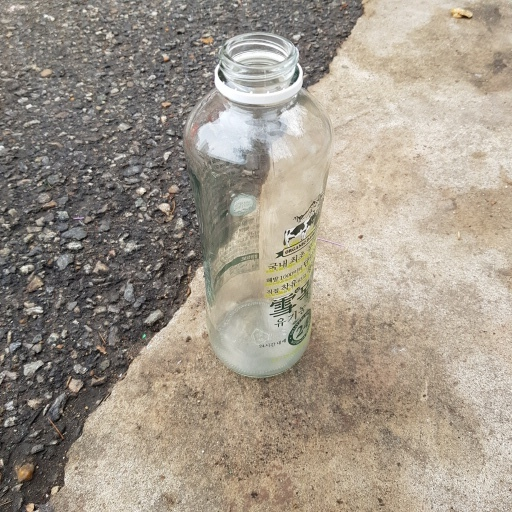Glass_4: (177, 29, 335, 381)
